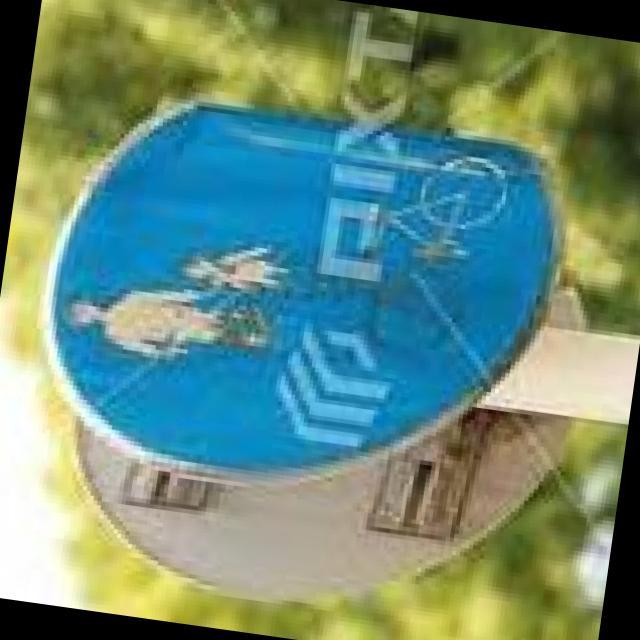obstructed_road_sign: (55, 103, 556, 467)
